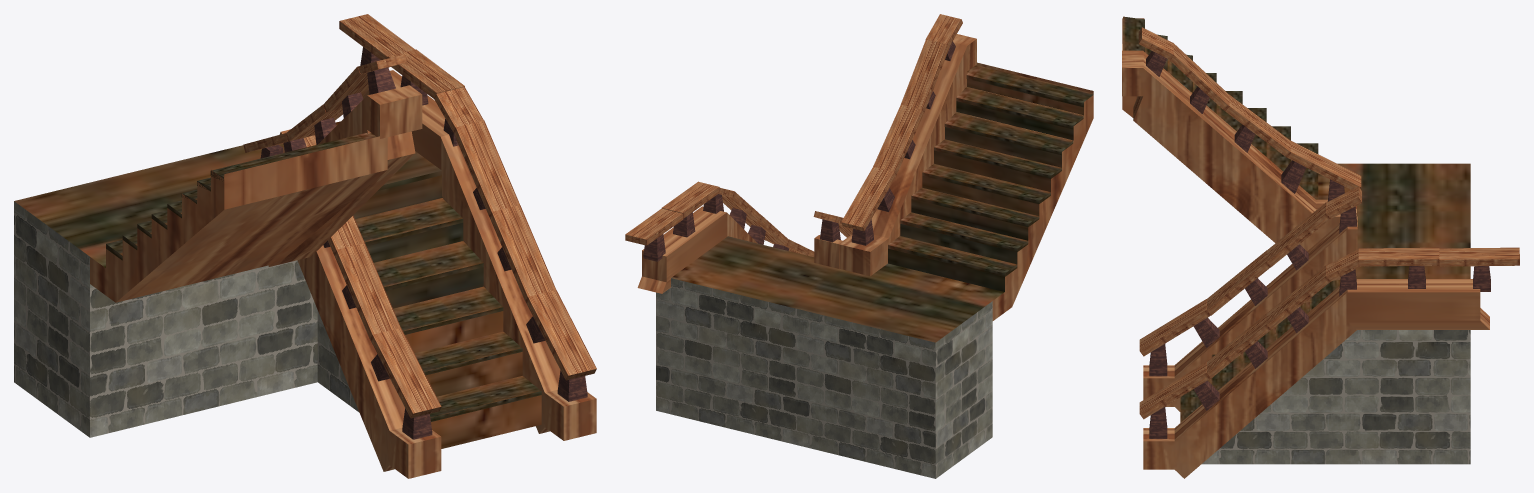
The model's file is stairs.glb.
3 renders of one model, left to right at view 1: azimuth 30°, elevation 25°; view 2: azimuth 150°, elevation 25°; view 3: azimuth 270°, elevation 25°, orthographic. The views are drawn at different scales.
Parts seen in each view (by area): view 1: schodymur, schody, poreczzz1.001, 1porecz.001, polpietro, podstopnie, 1porecz, poreczzz1, 2porecz, poreczzcz20, podstopien11, stopien5 (+7 smaller); view 2: schodymur, polpietro, podstopnie, 2porecz, poreczzcz20, schody, 1porecz.001, poreczzz1.001, stopien11, stopien12, stopien13, stopien6 (+8 smaller); view 3: schodymur, 1porecz.001, 2porecz, polpietro, poreczzz1, poreczzz1.001, poreczzcz20, 1porecz, Cube.002, Cube.003, stopien13, stopien6 (+4 smaller).
Part boxes in pixels (left/top/right/bottom): schodymur: left=14, top=201, right=359, bottom=437; schody: left=90, top=136, right=387, bottom=302; poreczzz1.001: left=434, top=87, right=596, bottom=401; 1porecz.001: left=362, top=70, right=596, bottom=440; polpietro: left=14, top=121, right=441, bottom=267; podstopnie: left=197, top=175, right=522, bottom=396; 1porecz: left=297, top=245, right=441, bottom=478; poreczzz1: left=279, top=129, right=441, bottom=439; 2porecz: left=268, top=85, right=422, bottom=266; poreczzcz20: left=243, top=54, right=406, bottom=158; podstopien11: left=431, top=395, right=541, bottom=448; stopien5: left=373, top=241, right=483, bottom=290; schodymur: left=656, top=278, right=992, bottom=478; polpietro: left=671, top=236, right=1004, bottom=342; podstopnie: left=888, top=79, right=1083, bottom=291; 2porecz: left=839, top=34, right=976, bottom=276; poreczzcz20: left=841, top=14, right=962, bottom=245; schody: left=963, top=62, right=1093, bottom=320; 1porecz.001: left=637, top=206, right=757, bottom=293; poreczzz1.001: left=703, top=188, right=814, bottom=256; stopien11: left=944, top=112, right=1073, bottom=155; stopien12: left=956, top=87, right=1083, bottom=129; stopien13: left=966, top=65, right=1093, bottom=107; stopien6: left=888, top=236, right=1017, bottom=276; schodymur: left=1202, top=330, right=1470, bottom=464; 1porecz.001: left=1143, top=279, right=1489, bottom=478; 2porecz: left=1122, top=50, right=1356, bottom=250; polpietro: left=1318, top=163, right=1470, bottom=278; poreczzz1: left=1139, top=186, right=1361, bottom=376; poreczzz1.001: left=1139, top=249, right=1359, bottom=438; poreczzcz20: left=1138, top=27, right=1361, bottom=201; 1porecz: left=1143, top=216, right=1357, bottom=411; Cube.002: left=1358, top=247, right=1439, bottom=266; Cube.003: left=1439, top=247, right=1519, bottom=266; stopien13: left=1123, top=16, right=1144, bottom=51; stopien6: left=1291, top=143, right=1318, bottom=199.
Size of what is drawn, in the model's own units: 6 by 6.51 by 6.47.
10 materials, 10 textured.
